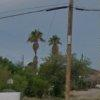Tree: (21, 25, 66, 85)
